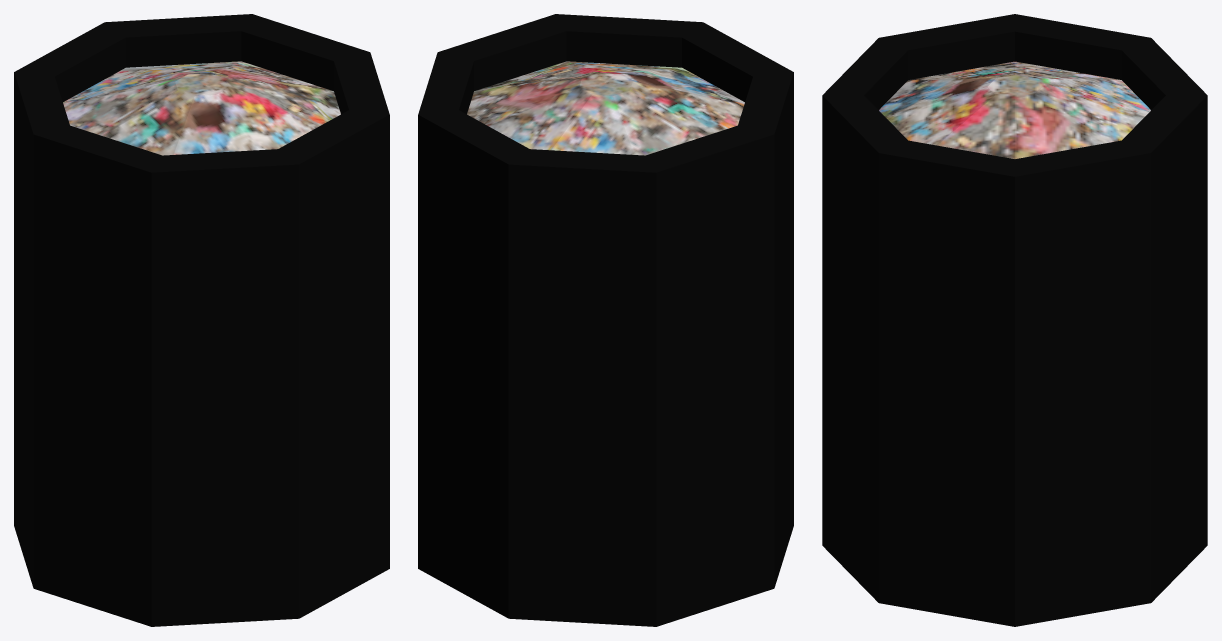
File: TrashCan.fbx
The picture shows the model from 3 angles, left to right: view 1: azimuth 30°, elevation 25°; view 2: azimuth 150°, elevation 25°; view 3: azimuth 270°, elevation 25°; orthographic projection.
Visible parts, largest first — view 1: TrashCan; view 2: TrashCan; view 3: TrashCan.
Part boxes in pixels (x1,y1,x2,y2): TrashCan: [14, 14, 389, 626]; TrashCan: [418, 14, 793, 626]; TrashCan: [822, 14, 1207, 626].
Size of the model in its own units: 18.29 by 24.02 by 18.29.
